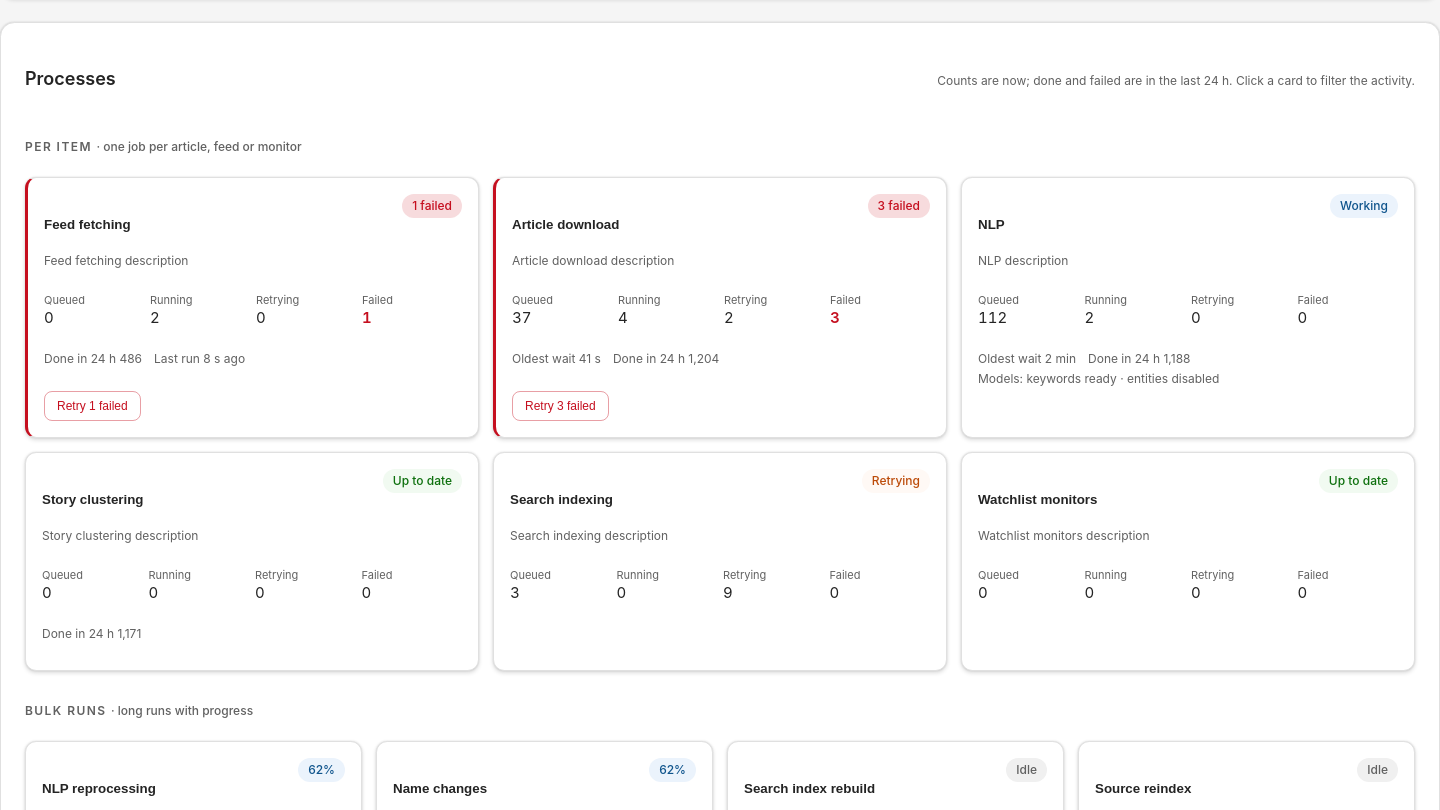
it: retries everything a process failed and says how many it retried
(page scrolled)
Click the button "Retry 3 failed" at {"x": 560, "y": 406}, box left=512, top=391, right=609, bottom=421
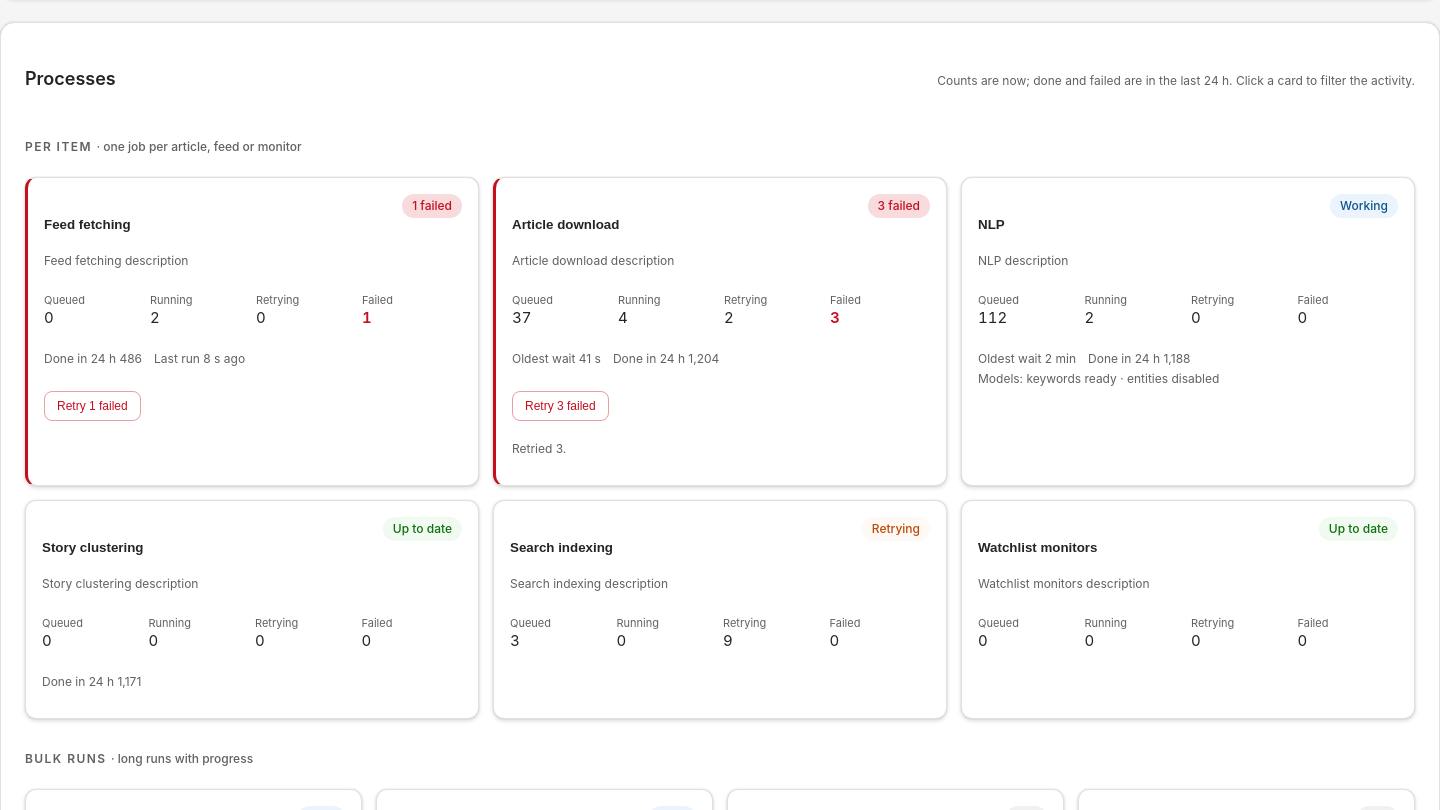
Expected: the text "Retried 3." is shown, left=512, top=441, right=566, bottom=456
Click the button "Retry 3 failed" at {"x": 560, "y": 406}, box left=512, top=391, right=609, bottom=421
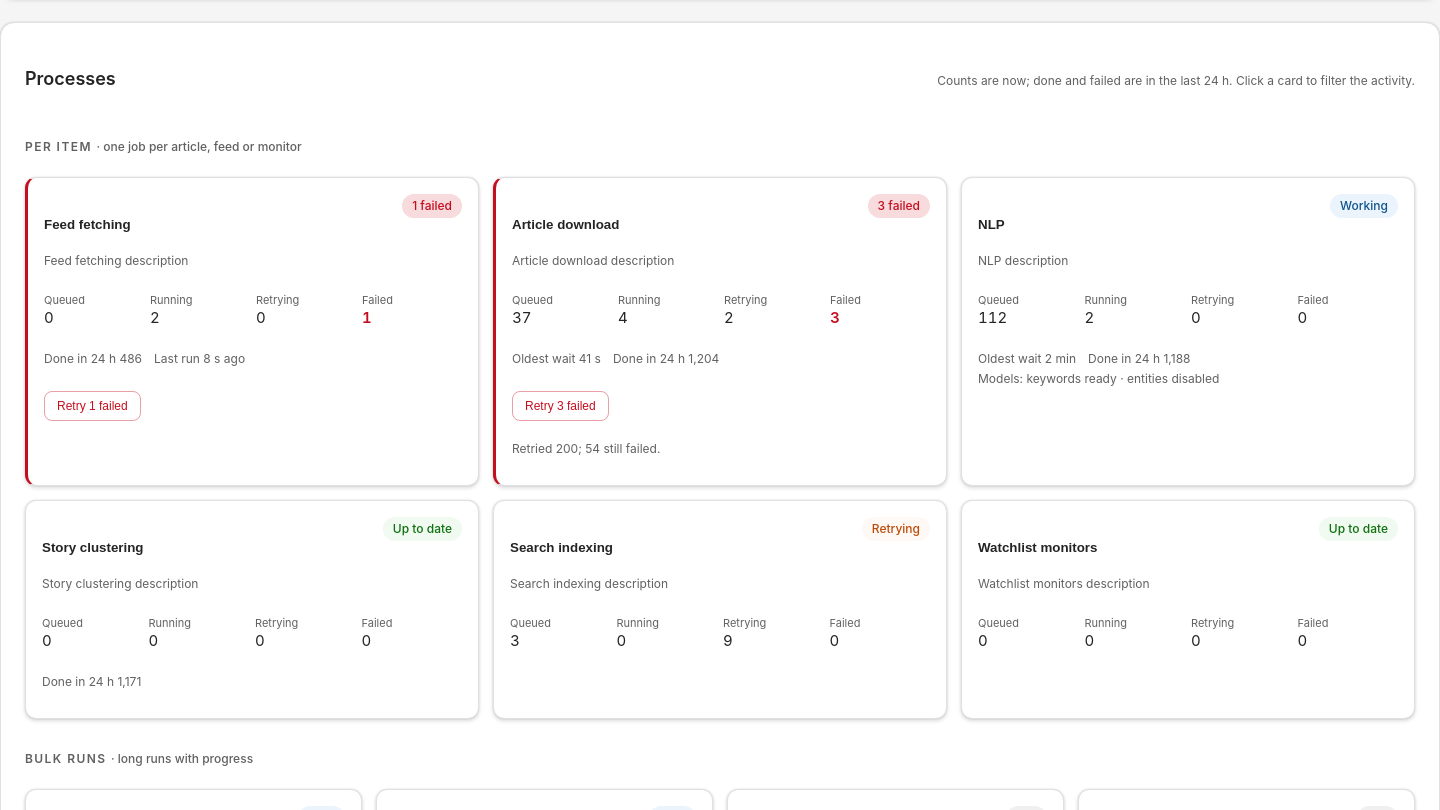
Expected: the text "Retried 200; 54 still failed." is shown, left=512, top=441, right=660, bottom=456
